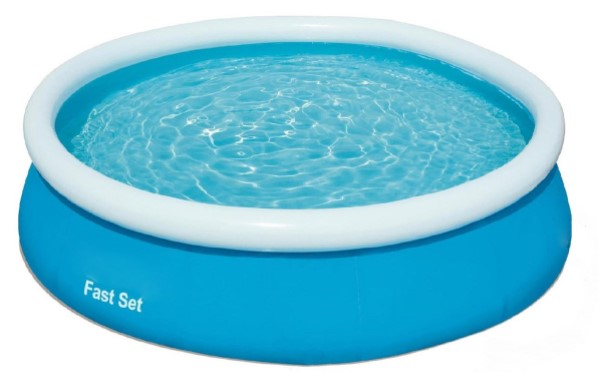havuz: (19, 17, 572, 365)
